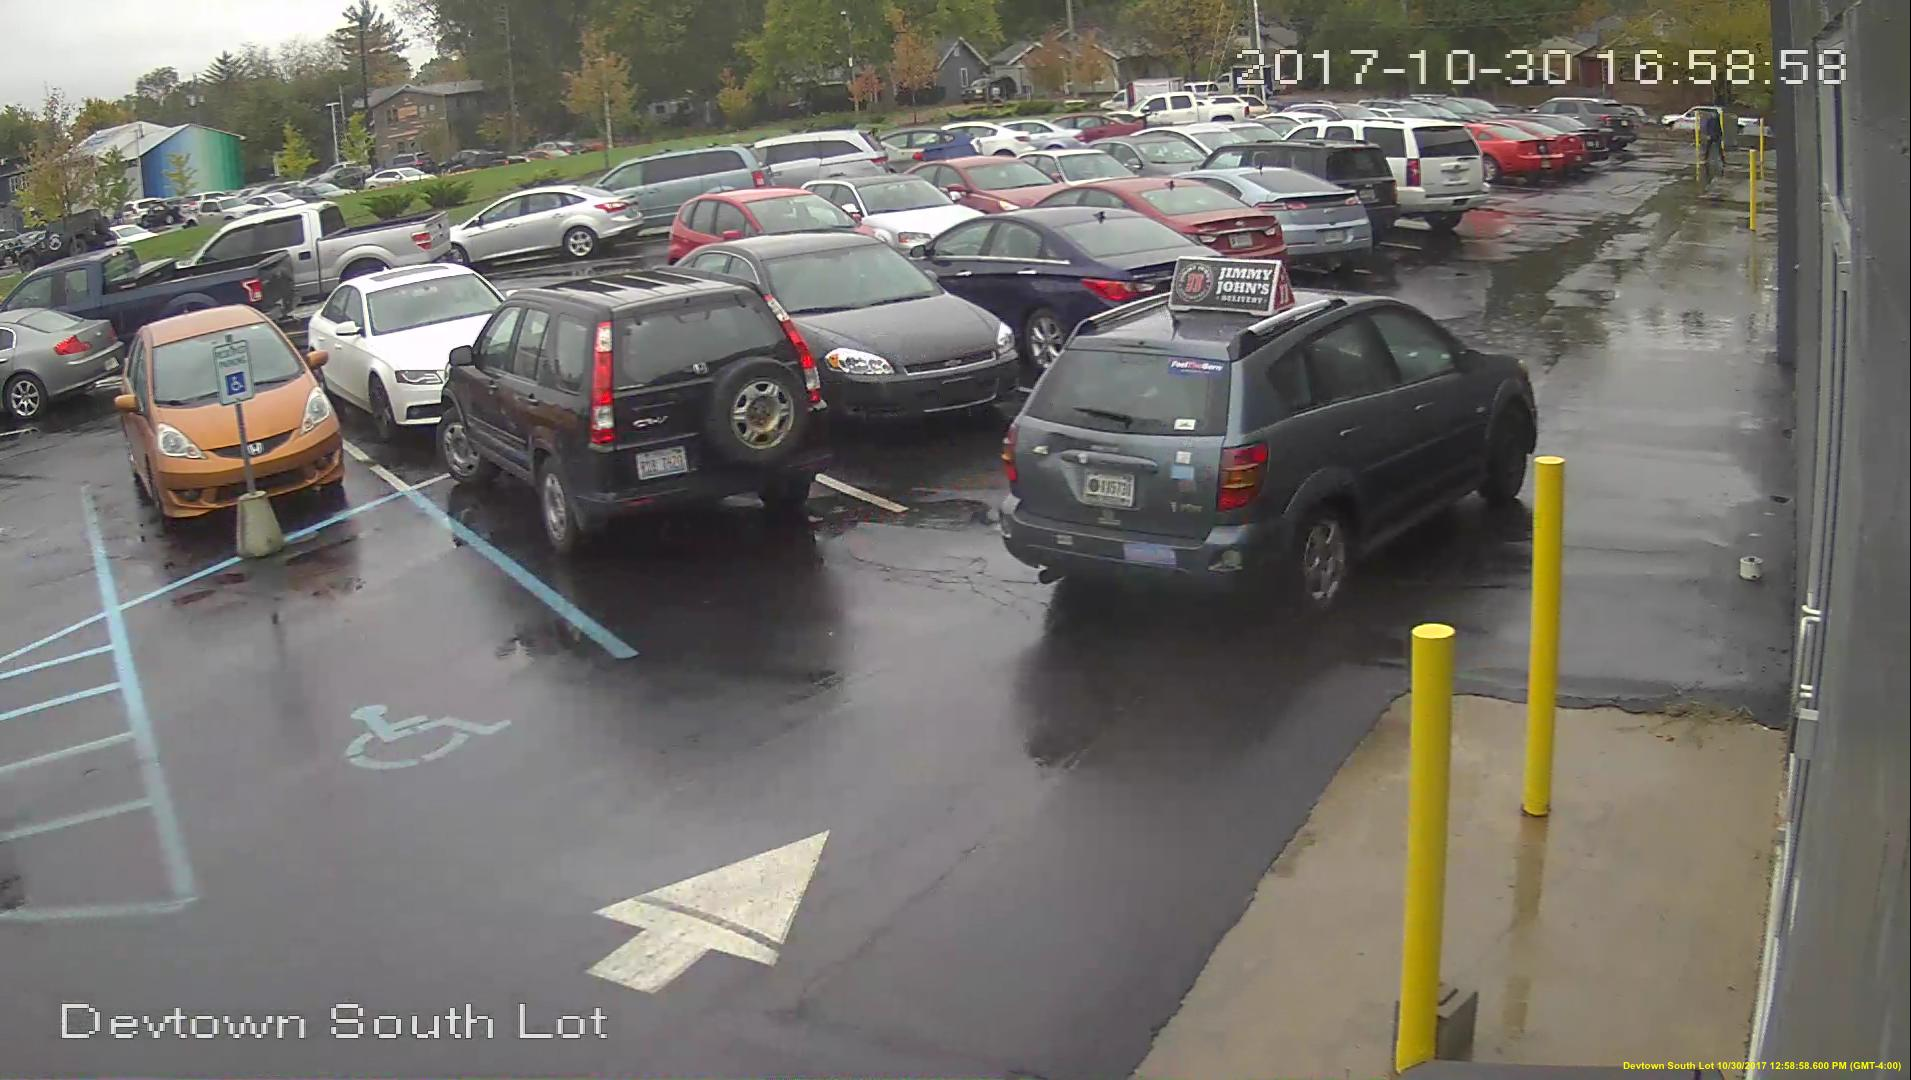jimmy_johns: (1165, 251, 1293, 320)
